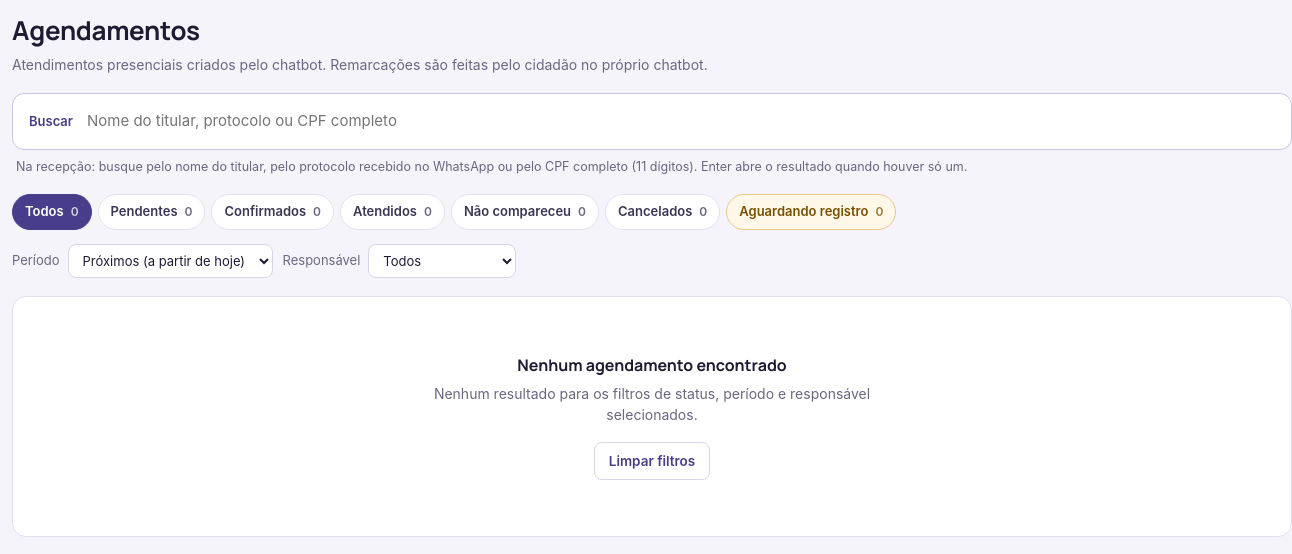
Test: Appointments.page: estados › mostra o vazio da busca com o termo
Expected: the text "Nenhum resultado para os filtros de status, período e responsável selecionados." is shown, [432,383,872,426]
In the search field labelled "Buscar": point(684, 121) [83,100,1285,142], type "Zuleica"
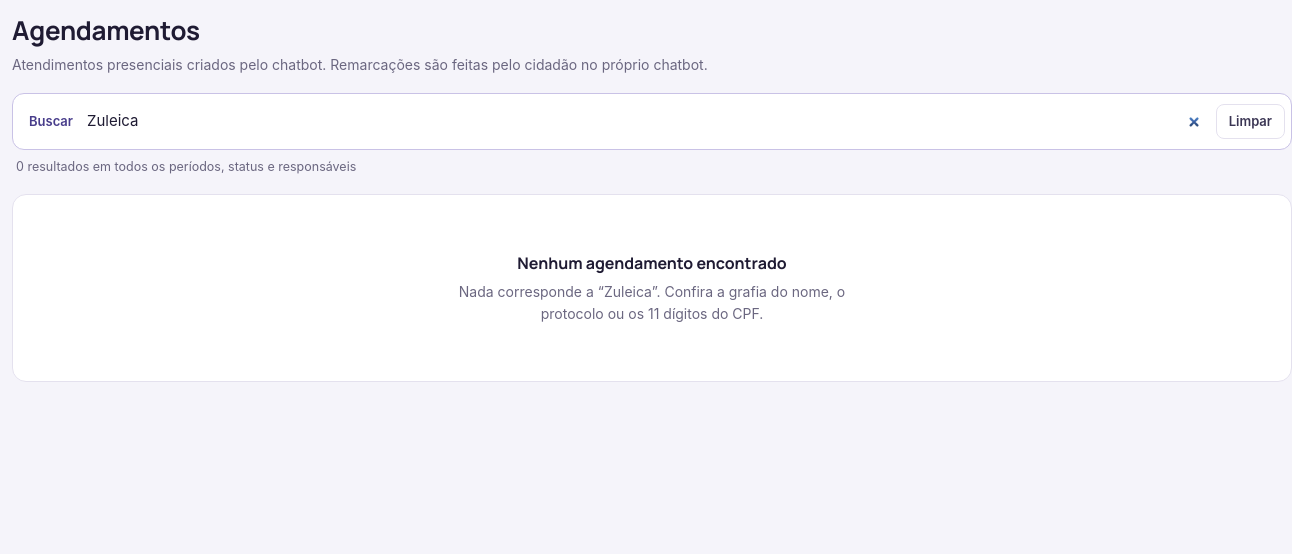
Expected: the text "Nenhum agendamento encontrado" is shown, [517,251,787,275]
Result: the text "Nada corresponde a “Zuleica”. Confira a grafia do nome, o protocolo ou os 11 dígitos do CPF." is shown at [459,283,845,322]
Result: the button "Limpar filtros" is gone
